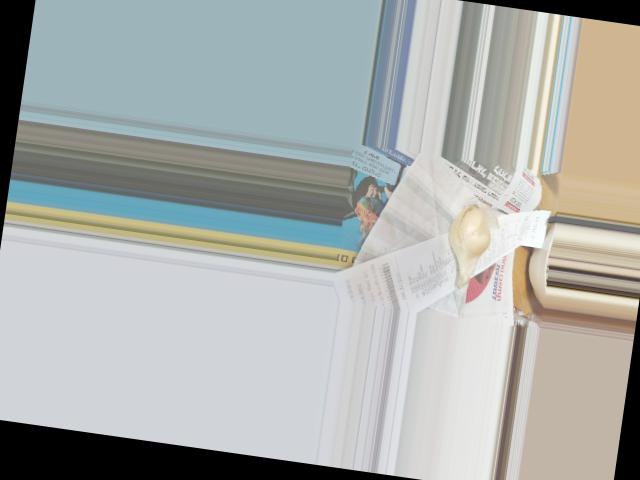onion: (441, 204, 491, 281)
